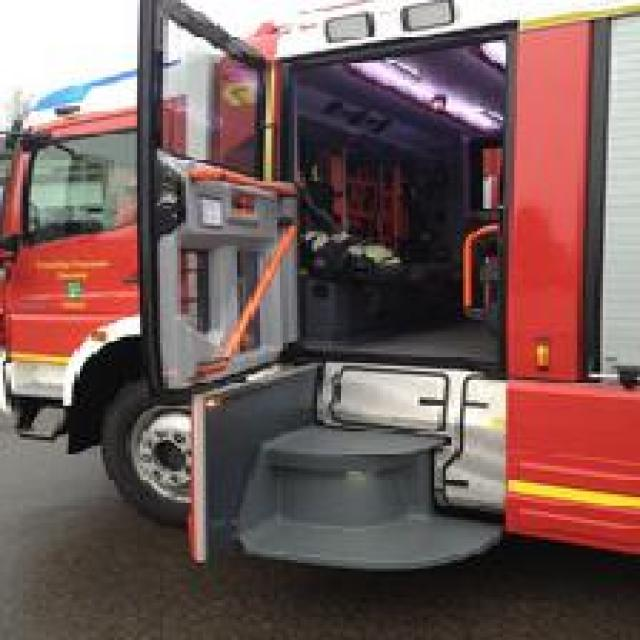Fire-truck: (0, 54, 566, 551)
